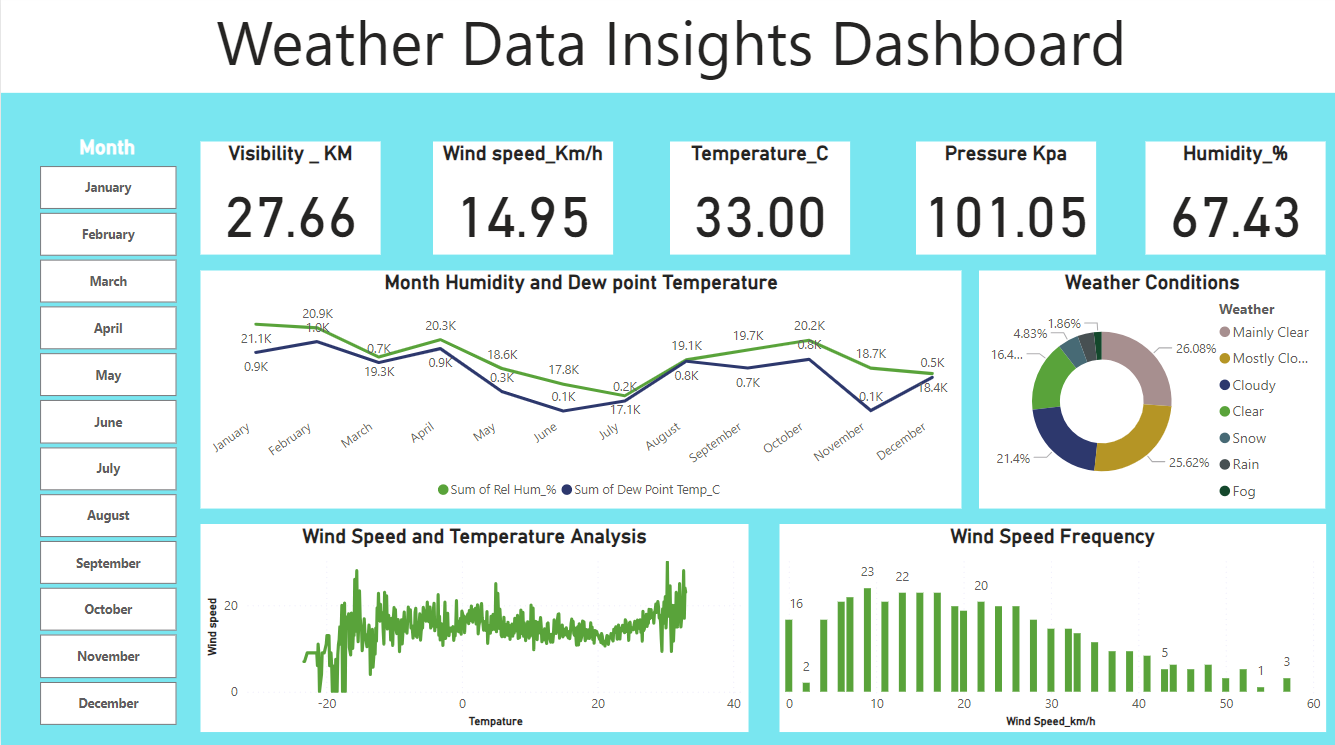

The page's visual inventory and layout, read from the dashboard file:
{"tool":"powerbi","page":{"name":"Page 3","canvas":[1280,720],"ordinal":0},"visuals":[{"type":"card","title":"Visibility _ KM","fields":{"Values":["Avg(Weather Data.Visibility_km)"]},"box":[190.9,141.6,171.8,108.2],"z":0},{"type":"card","title":"Humidity_%","fields":{"Values":["Avg(Weather Data.Rel Hum_%)"]},"box":[1092.7,141.6,171.8,108.2],"z":1},{"type":"card","title":"Wind speed_Km/h","fields":{"Values":["Avg(Weather Data.Wind Speed_km/h)"]},"box":[412,141.6,171.8,108.2],"z":2},{"type":"card","title":"Temperature_C","fields":{"Values":["Max(Weather Data.Temp_C)"]},"box":[639.4,141.6,171.8,108.2],"z":3},{"type":"card","title":"Pressure Kpa","fields":{"Values":["Avg(Weather Data.Press_kPa)"]},"box":[873.2,141.6,171.8,108.2],"z":5},{"type":"slicer","title":"Month","fields":{"Values":["Weather Data.Date/Time.Variation.Date Hierarchy.Month"]},"box":[11.1,136.8,179.7,569.4],"z":6},{"type":"lineChart","title":"Month Humidity and Dew point Temperature","fields":{"Category":["Weather Data.Date/Time.Variation.Date Hierarchy.Month"],"Y":["Sum(Weather Data.Rel Hum_%)"],"Y2":["Sum(Weather Data.Dew Point Temp_C)"]},"box":[190.9,265.6,726.9,227.5],"z":7},{"type":"lineChart","title":"Wind Speed  and Temperature Analysis","fields":{"Category":["Weather Data.Temp_C"],"Y":["Avg(Weather Data.Wind Speed_km/h)"]},"box":[190.9,507.4,523.3,198.8],"z":8},{"type":"lineStackedColumnComboChart","title":"Wind Speed Frequency","fields":{"Category":["Weather Data.Wind Speed_km/h"],"Y":["Count(Weather Data.Weather)"]},"box":[742.8,507.4,521.7,198.8],"z":9},{"type":"donutChart","title":"Weather Conditions","fields":{"Y":["CountNonNull(Weather Data.Weather)"],"Category":["Weather Data.Weather"]},"box":[933.7,265.6,330.8,227.5],"z":10},{"type":"textbox","box":[0,0,1280.4,95.4],"z":11}]}

Visuals, with their boxes in screenshot pixels (x1, y1, x2, y2), scaled from the page's 1280x720 canvas onto the 1335x745 screenshot:
"Visibility _ KM" card: x1=199 y1=147 x2=378 y2=258
"Humidity_%" card: x1=1140 y1=147 x2=1319 y2=258
"Wind speed_Km/h" card: x1=430 y1=147 x2=609 y2=258
"Temperature_C" card: x1=667 y1=147 x2=846 y2=258
"Pressure Kpa" card: x1=911 y1=147 x2=1090 y2=258
"Month" slicer: x1=12 y1=142 x2=199 y2=731
"Month Humidity and Dew point Temperature" lineChart: x1=199 y1=275 x2=957 y2=510
"Wind Speed  and Temperature Analysis" lineChart: x1=199 y1=525 x2=745 y2=731
"Wind Speed Frequency" lineStackedColumnComboChart: x1=775 y1=525 x2=1319 y2=731
"Weather Conditions" donutChart: x1=974 y1=275 x2=1319 y2=510
textbox: x1=0 y1=0 x2=1334 y2=99
